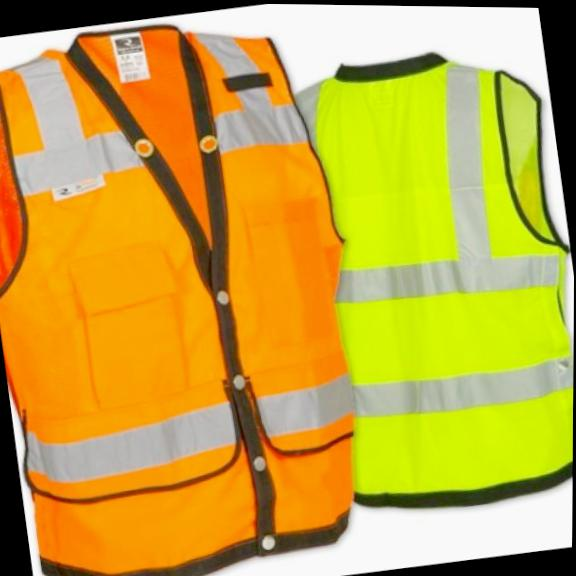safety_vest: (0, 2, 390, 576), (286, 31, 576, 516)
